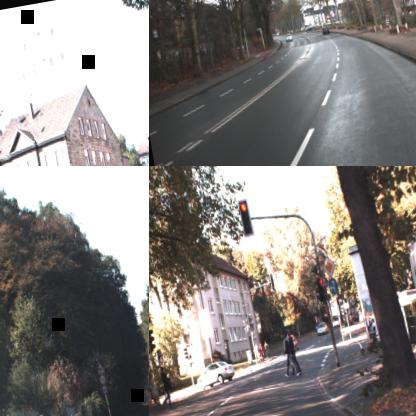go left: (326, 276, 339, 295)
no overtaking (trucks): (100, 384, 108, 395)
priority road: (320, 254, 336, 278)
slippery road: (94, 360, 106, 374)
speed limit 50: (98, 372, 106, 386)
